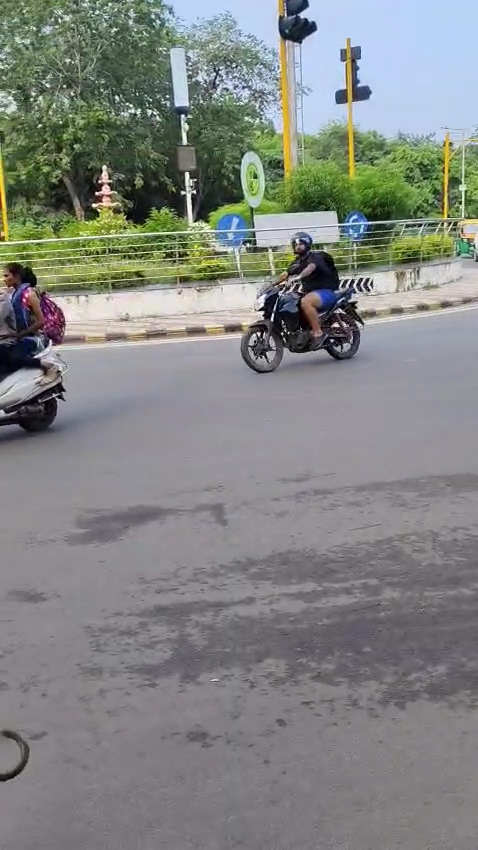BikeWithRider: (231, 212, 371, 378)
Helmet: (284, 227, 314, 264)
